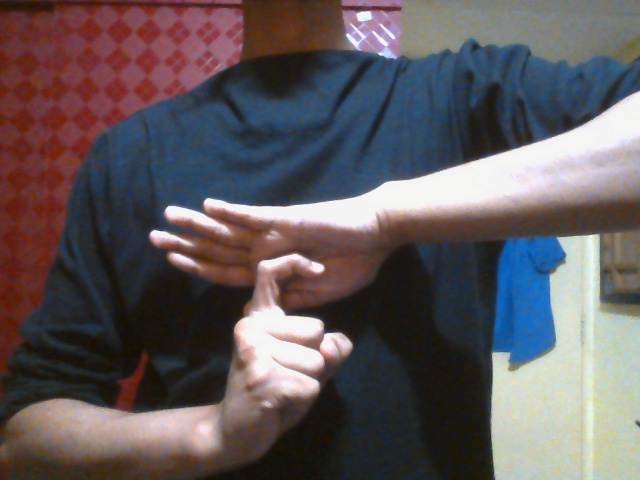R: (147, 195, 393, 447)
